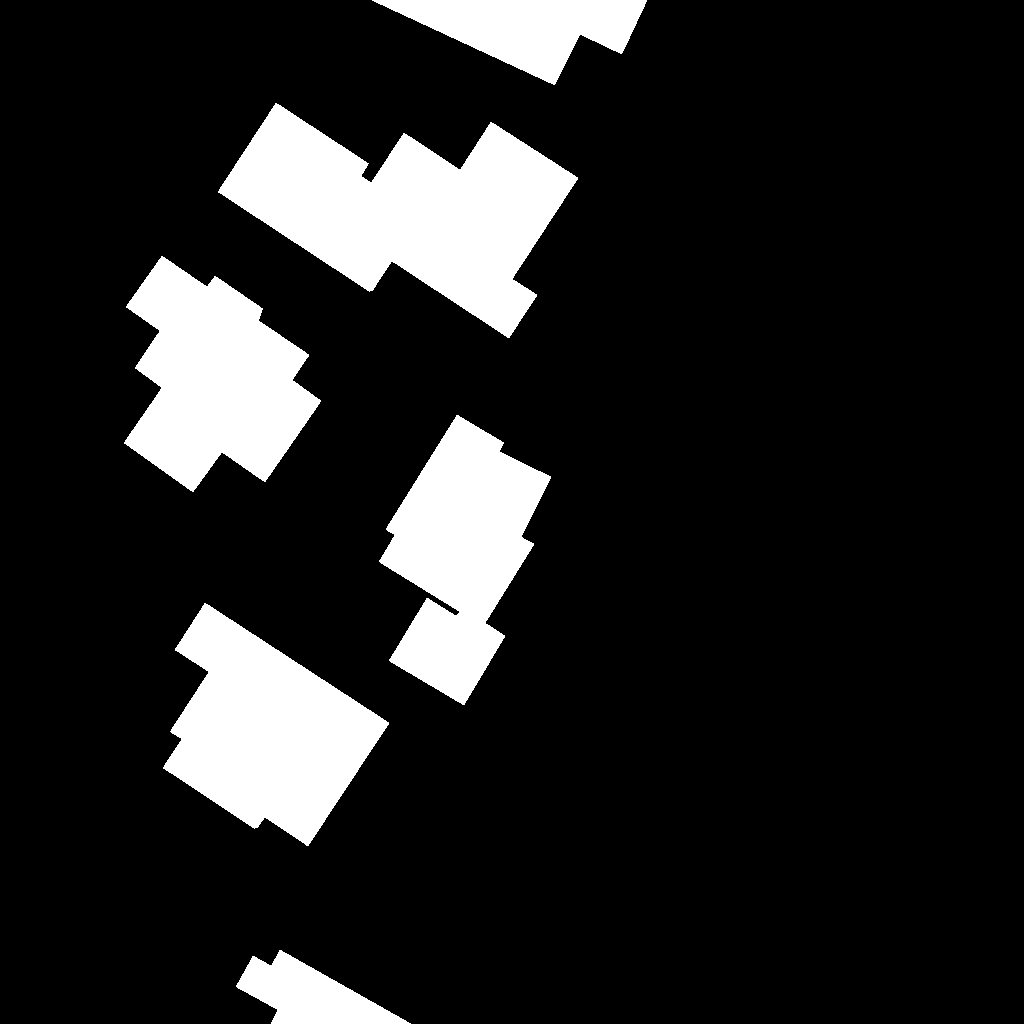building: (218, 103, 579, 339), (163, 603, 390, 847), (379, 415, 552, 706), (124, 256, 322, 493), (371, 0, 648, 86), (236, 950, 412, 1024)
